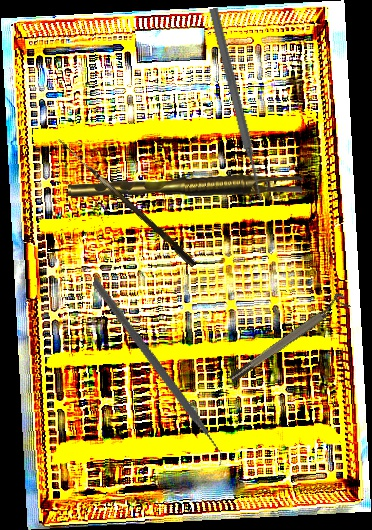Chopper: (43, 277, 269, 475)
Fixation Ring: (224, 290, 351, 386)
Hook Surgical: (52, 138, 199, 268)
Pusher: (206, 6, 268, 203)
Tissue Forceps: (68, 171, 303, 201)
